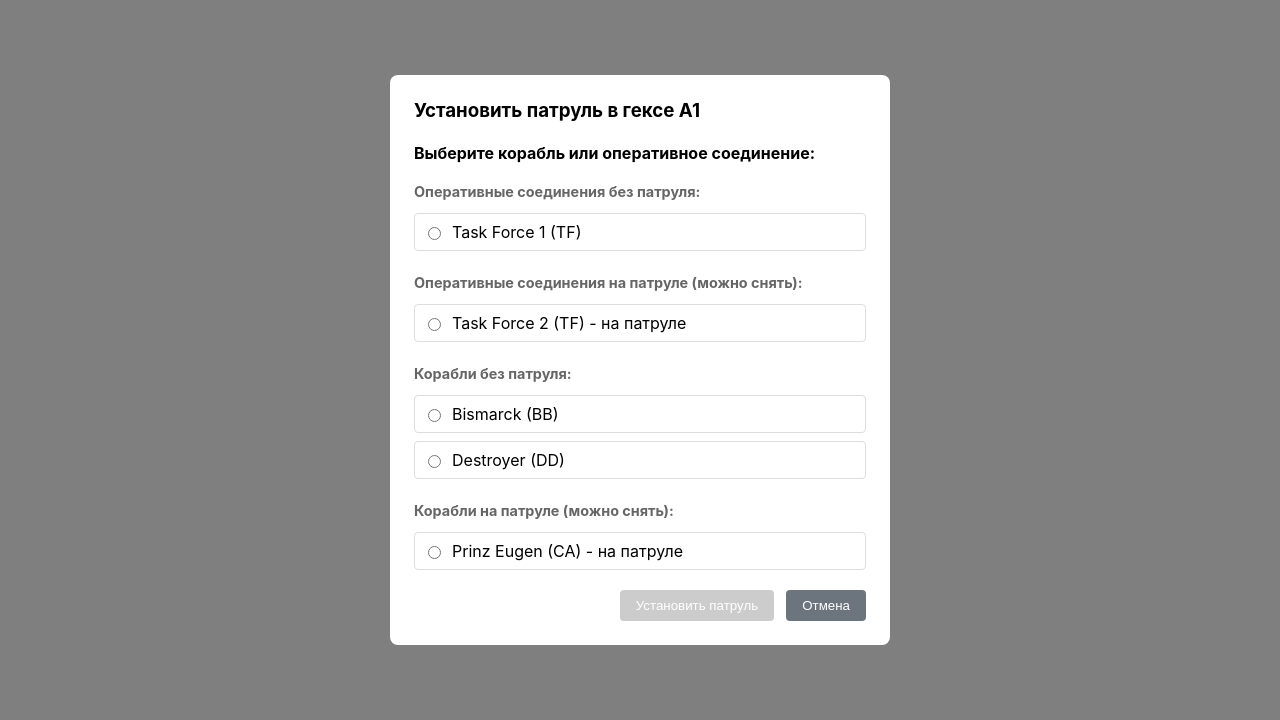
PatrolDialog › Unit Selection › should allow selecting a Task Force with patrol
Step 1. Click the radio button labelled "Task Force 2 (TF) - на патруле" → (434, 325), box [428,318,441,331]
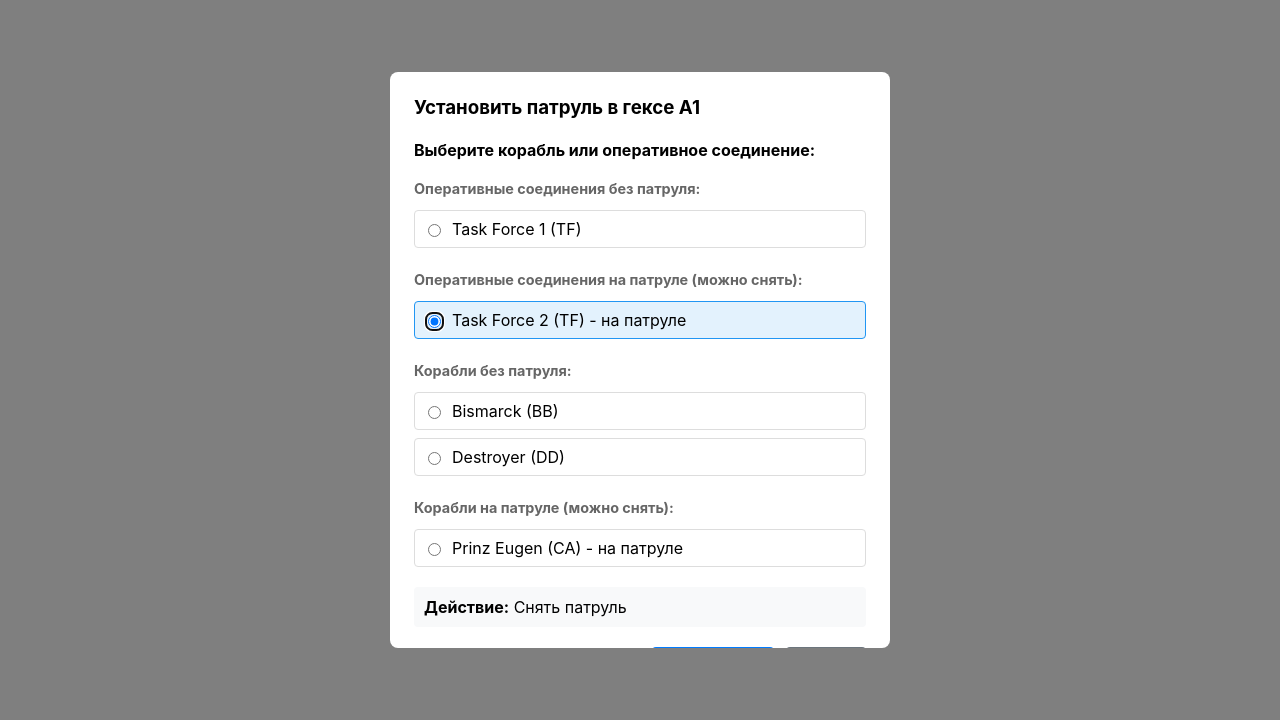
Check: the radio button labelled "Task Force 2 (TF) - на патруле" is checked, box [428,315,441,328]
Check: the text "Действие:" is shown, box [424,597,509,617]
Check: the text "Снять патруль" is shown, box [514,597,627,617]
